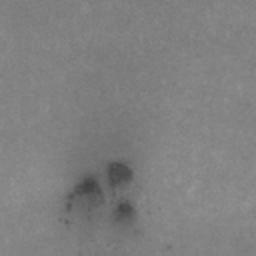Iron sheet ash: (65, 177, 102, 211), (105, 160, 136, 191), (114, 200, 134, 223)
